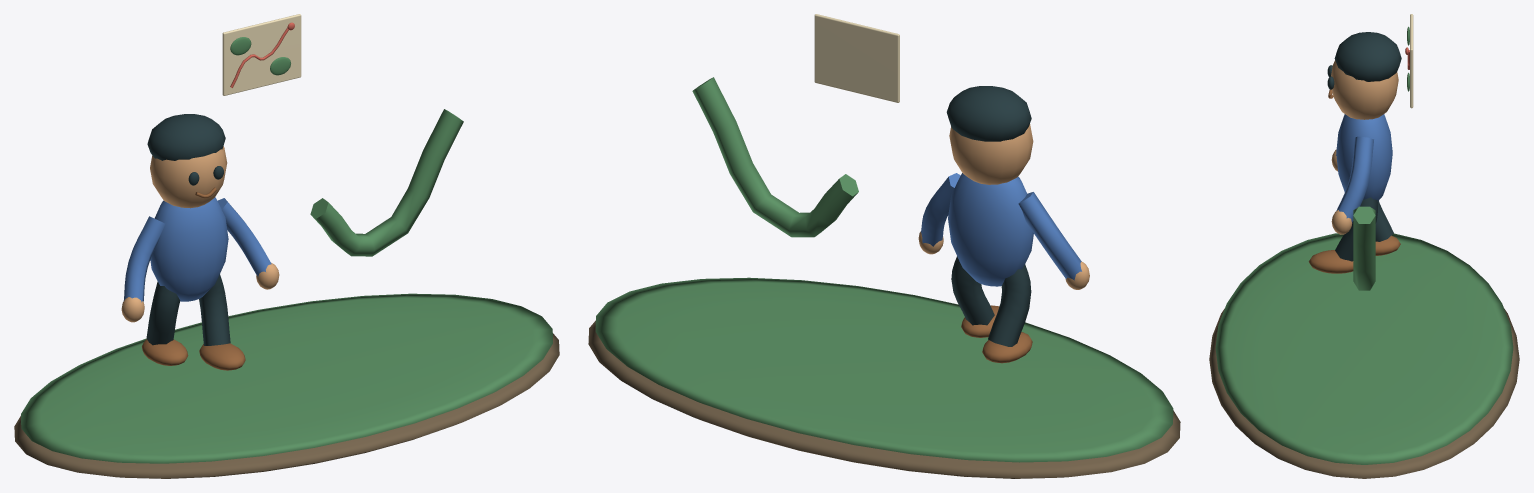
Rendered from complete-third-youhao-district-name.glb.
3 renders of one model, left to right at view 1: azimuth 30°, elevation 25°; view 2: azimuth 150°, elevation 25°; view 3: azimuth 270°, elevation 25°, orthographic. The views are drawn at different scales.
Visible parts, largest first — view 1: complete-third-youhao-district-name_surface_01, complete-third-youhao-district-name_surface_00, complete-third-youhao-district-name_surface_05, complete-third-youhao-district-name_surface_03, complete-third-youhao-district-name_surface_06, complete-third-youhao-district-name_surface_02, complete-third-youhao-district-name_surface_04; view 2: complete-third-youhao-district-name_surface_01, complete-third-youhao-district-name_surface_00, complete-third-youhao-district-name_surface_05, complete-third-youhao-district-name_surface_03, complete-third-youhao-district-name_surface_06, complete-third-youhao-district-name_surface_02, complete-third-youhao-district-name_surface_04; view 3: complete-third-youhao-district-name_surface_01, complete-third-youhao-district-name_surface_00, complete-third-youhao-district-name_surface_05, complete-third-youhao-district-name_surface_03, complete-third-youhao-district-name_surface_02, complete-third-youhao-district-name_surface_04, complete-third-youhao-district-name_surface_06.
Boxes of the visible parts, bbox=[...] form: complete-third-youhao-district-name_surface_01: bbox=[21, 37, 552, 463]; complete-third-youhao-district-name_surface_00: bbox=[14, 333, 559, 478]; complete-third-youhao-district-name_surface_05: bbox=[123, 197, 271, 302]; complete-third-youhao-district-name_surface_03: bbox=[146, 114, 230, 345]; complete-third-youhao-district-name_surface_06: bbox=[222, 14, 301, 95]; complete-third-youhao-district-name_surface_02: bbox=[121, 146, 279, 322]; complete-third-youhao-district-name_surface_04: bbox=[142, 187, 245, 370]; complete-third-youhao-district-name_surface_01: bbox=[595, 77, 1173, 462]; complete-third-youhao-district-name_surface_00: bbox=[588, 320, 1180, 478]; complete-third-youhao-district-name_surface_05: bbox=[921, 173, 1081, 286]; complete-third-youhao-district-name_surface_03: bbox=[946, 86, 1031, 346]; complete-third-youhao-district-name_surface_06: bbox=[814, 14, 899, 102]; complete-third-youhao-district-name_surface_02: bbox=[918, 124, 1089, 289]; complete-third-youhao-district-name_surface_04: bbox=[961, 305, 1032, 363]; complete-third-youhao-district-name_surface_01: bbox=[1215, 26, 1513, 464]; complete-third-youhao-district-name_surface_00: bbox=[1209, 308, 1519, 478]; complete-third-youhao-district-name_surface_05: bbox=[1336, 114, 1392, 222]; complete-third-youhao-district-name_surface_03: bbox=[1327, 32, 1401, 261]; complete-third-youhao-district-name_surface_02: bbox=[1331, 60, 1398, 234]; complete-third-youhao-district-name_surface_04: bbox=[1308, 89, 1400, 273]; complete-third-youhao-district-name_surface_06: bbox=[1410, 14, 1413, 108].
Bounding box in the file's own units: 4.56 × 3.04 × 2.5.
